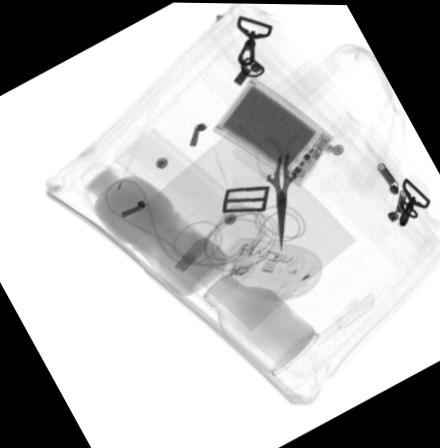Powerbank: (213, 73, 338, 185)
Scissors: (255, 133, 317, 258)
